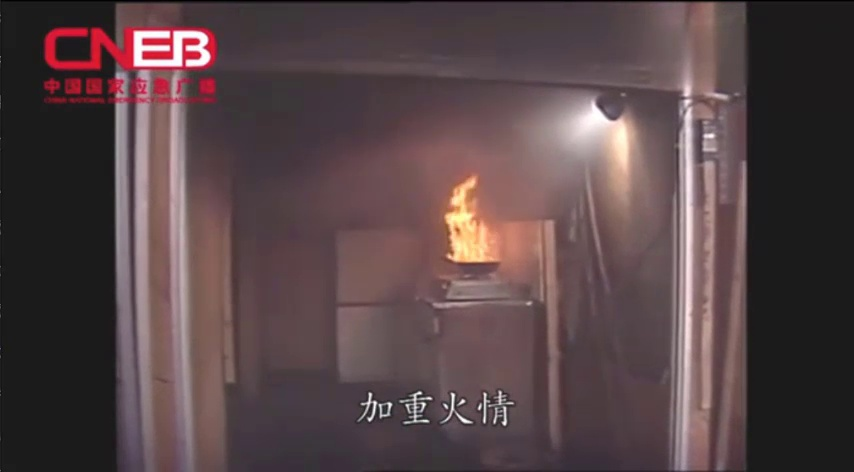fire: (436, 168, 508, 267)
